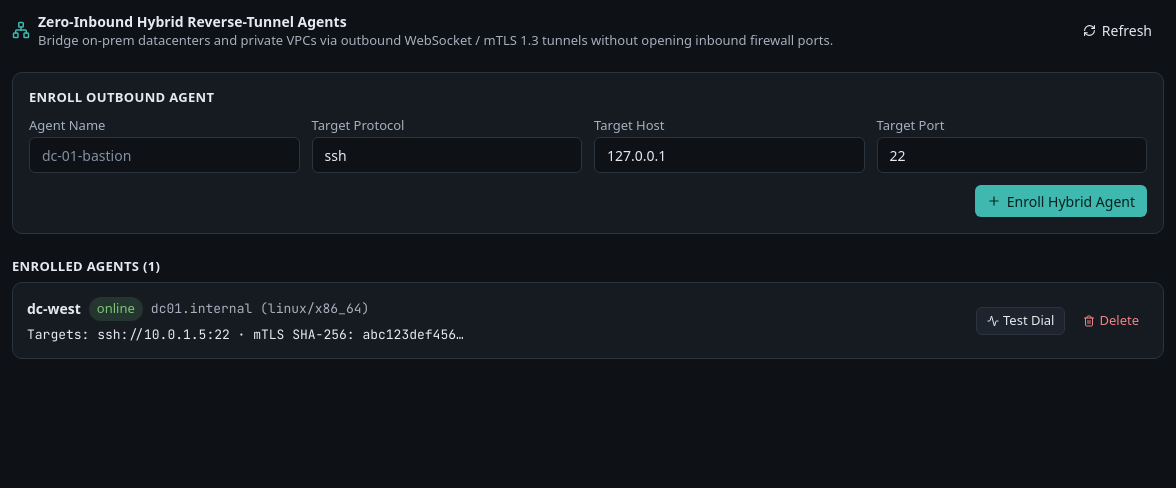
Test: M12 governance & platform panels › HybridAgentsPanel enrolls outbound reverse-tunnel agents and prints run command
The image size is (1176, 488).
Expected: the text "dc-west" is shown, [27,299,81,319]
Type "onprem-db" into the field labelled "Agent Name".
click(164, 155); type("onprem-db")  # box [29,137,300,173]
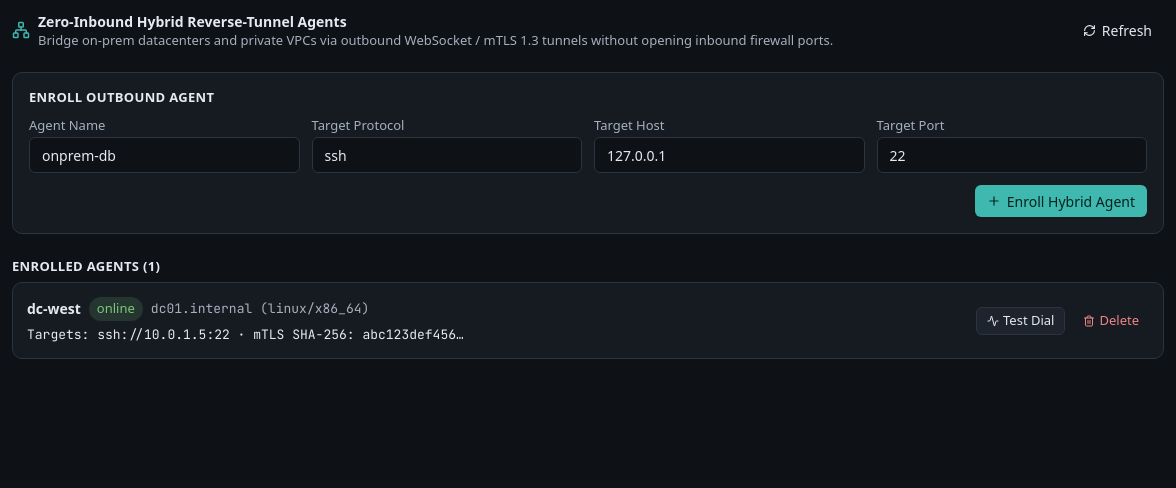
Click the button "Enroll Hybrid Agent".
click(1061, 201)  # box [975,185,1147,217]
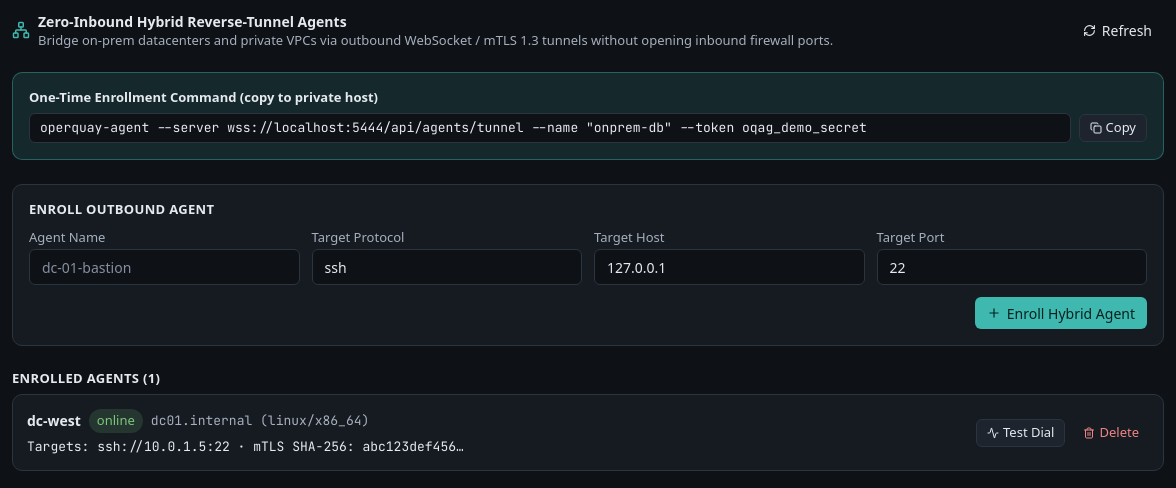
Result: the text "oqag_demo_secret" is shown at [40,119,867,136]
